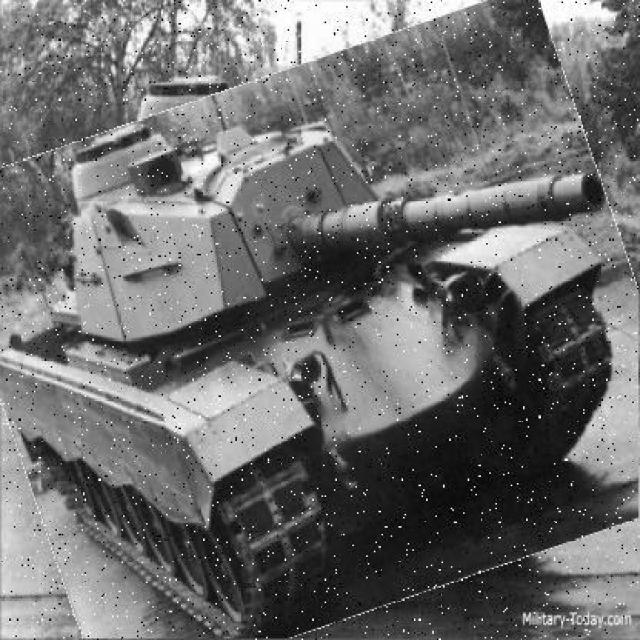Tank: (1, 30, 639, 639)
